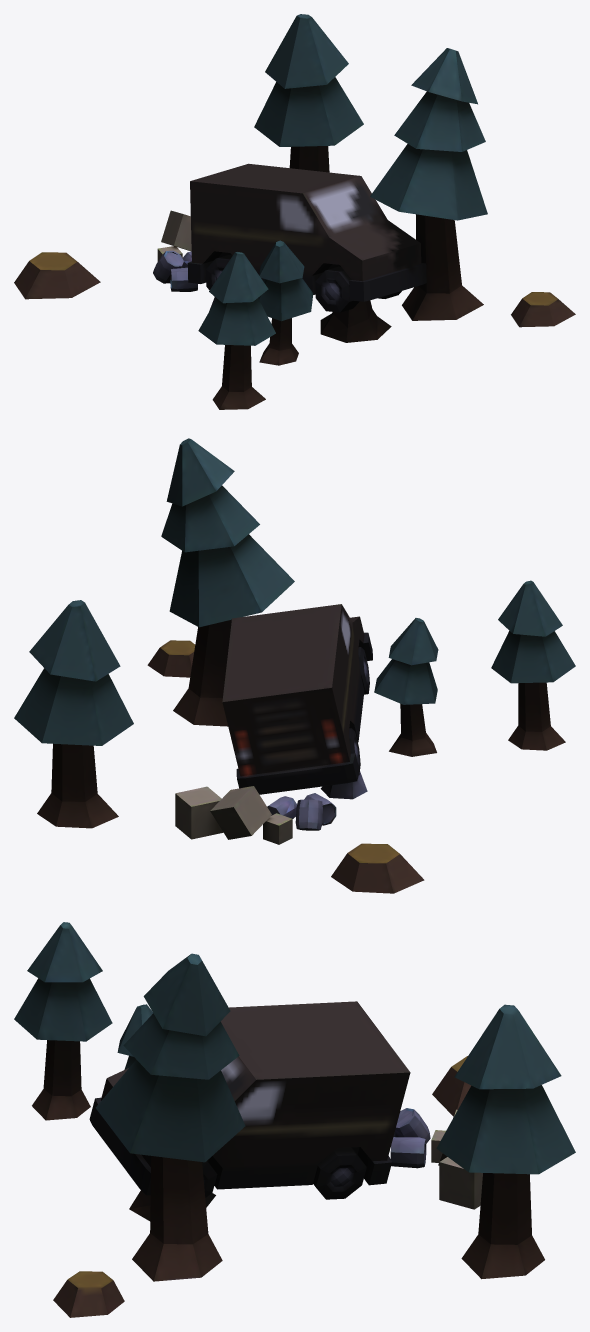
Rendered from waste_2_lod0.fbx.
3 renders of one model, top to bottom at view 1: azimuth 30°, elevation 25°; view 2: azimuth 150°, elevation 25°; view 3: azimuth 270°, elevation 25°, orthographic. The views are drawn at different scales.
Parts seen in each view (by area): view 1: waste_2_lod0; view 2: waste_2_lod0; view 3: waste_2_lod0.
Part boxes in pixels (x1,y1,x2,y2): waste_2_lod0: (14, 14, 575, 409); waste_2_lod0: (14, 438, 575, 893); waste_2_lod0: (14, 922, 575, 1317).
Size of the model in its own units: 0.0521 by 0.0313 by 0.0504.
